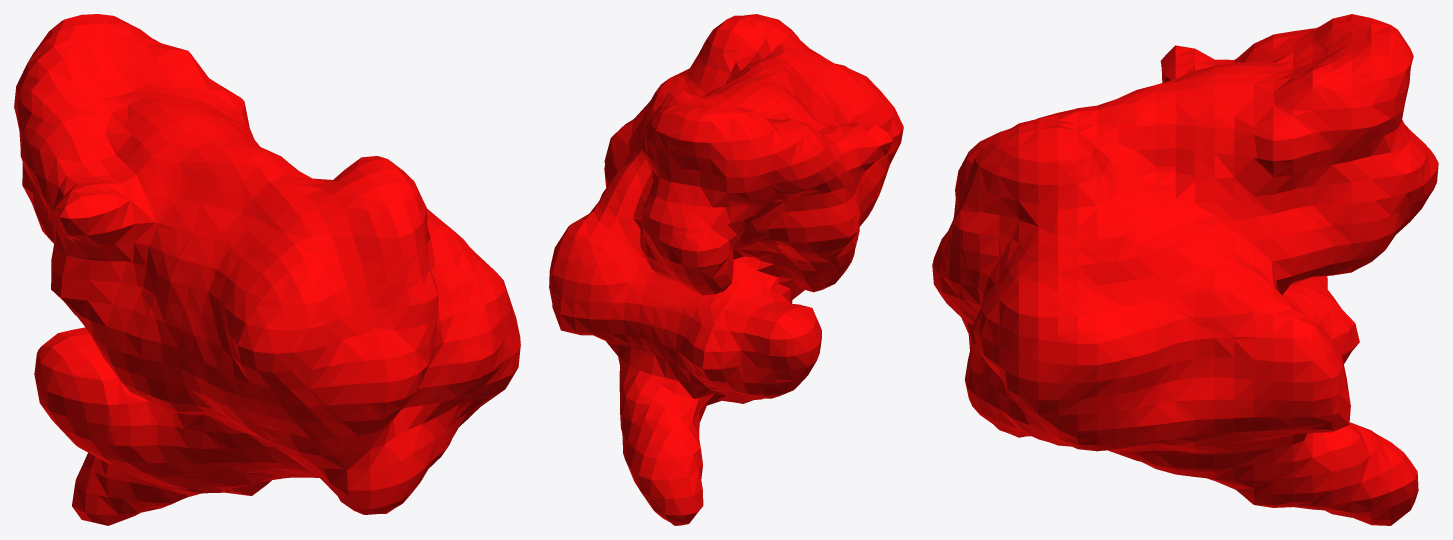
The model's file is glpT_coarse.dae.
3 views of the same model, side by side, from view 1: azimuth 30°, elevation 25°; view 2: azimuth 150°, elevation 25°; view 3: azimuth 270°, elevation 25° (orthographic). The views are drawn at different scales.
Parts seen in each view (by area): view 1: glpT; view 2: glpT; view 3: glpT.
Boxes of the visible parts, bbox=[...] form: glpT: bbox=[14, 14, 520, 525]; glpT: bbox=[549, 14, 903, 525]; glpT: bbox=[932, 14, 1438, 525].
Size of the model in its own units: 59.19 by 73.75 by 69.88.
